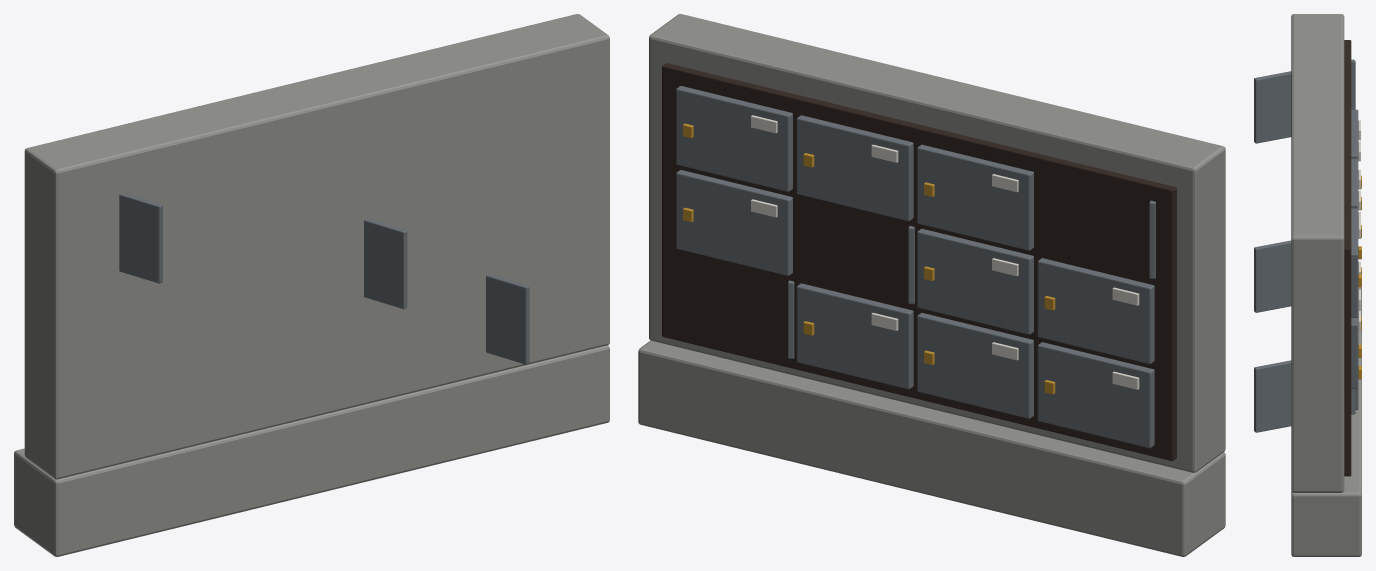
Rendered from lobby_mailboxes.glb.
3 views of the same model, side by side, from view 1: azimuth 30°, elevation 25°; view 2: azimuth 150°, elevation 25°; view 3: azimuth 270°, elevation 25° (orthographic). The views are drawn at different scales.
Visible parts, largest first — view 1: lobby_mailboxes; view 2: lobby_mailboxes; view 3: lobby_mailboxes.
Part boxes in pixels (x1=…): lobby_mailboxes: x1=14, y1=14, x2=609, y2=556; lobby_mailboxes: x1=638, y1=14, x2=1225, y2=556; lobby_mailboxes: x1=1254, y1=14, x2=1361, y2=556.
Size of what is drawn, in the model's own units: 3 by 2 by 0.6101.
2 materials, 2 textured.
